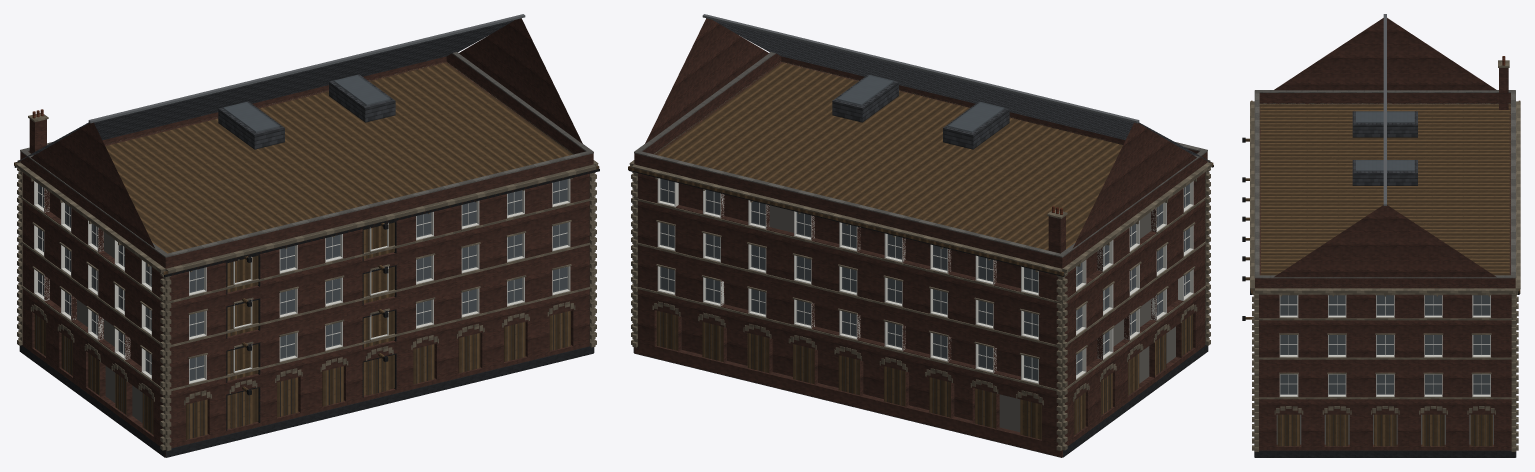
The model's file is A_warehouse_4.glb.
The picture shows the model from 3 angles, left to right: view 1: azimuth 30°, elevation 25°; view 2: azimuth 150°, elevation 25°; view 3: azimuth 270°, elevation 25°; orthographic projection. The views are drawn at different scales.
Visible parts, largest first — view 1: A_warehouse_4; view 2: A_warehouse_4; view 3: A_warehouse_4.
Part boxes in pixels (<box>): A_warehouse_4: <box>14,14,599,457</box>; A_warehouse_4: <box>628,14,1213,457</box>; A_warehouse_4: <box>1242,14,1520,457</box>.
Bounding box in the file's own units: 34.76 × 21.61 × 21.35.
13 materials, 8 textured.
